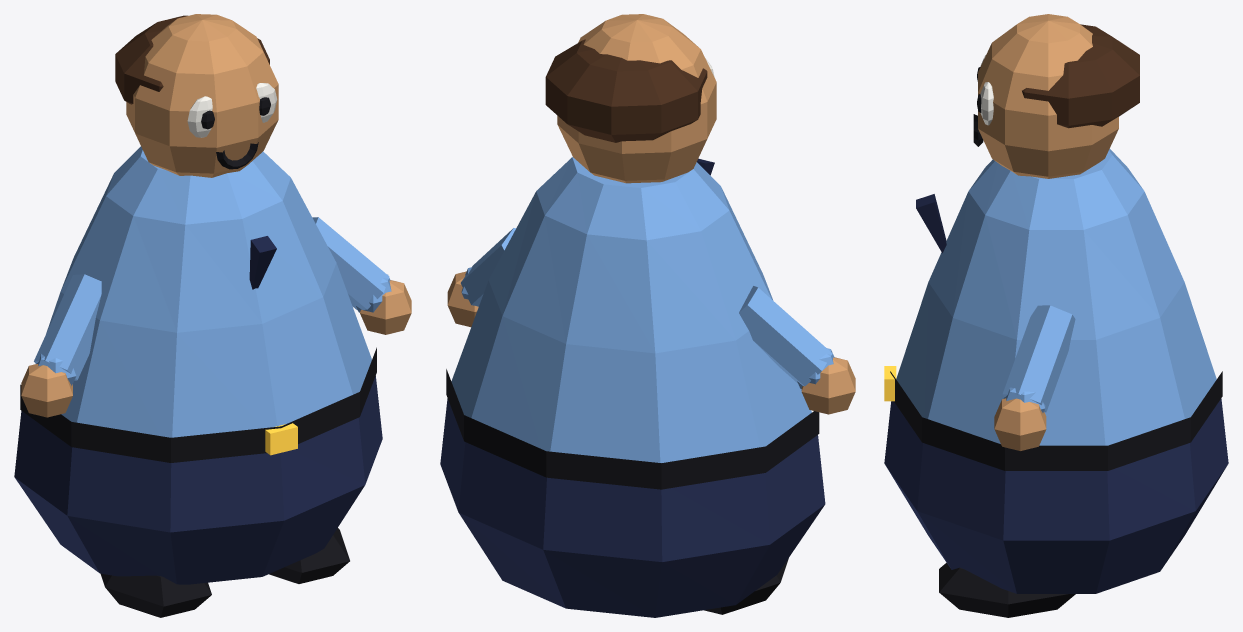
The model's file is npc_invitado.glb.
3 views of the same model, side by side, from view 1: azimuth 30°, elevation 25°; view 2: azimuth 150°, elevation 25°; view 3: azimuth 270°, elevation 25° (orthographic). The views are drawn at different scales.
Parts seen in each view (by area): view 1: body_costume_blue, body_costume_navy, head_skin_arena, body_black, arms_costume_blue, legs_black, arms_skin_arena, head_hair_brown, face_white, body_costume_tie, face_black, body_gold; view 2: body_costume_blue, body_costume_navy, head_hair_brown, head_skin_arena, body_black, arms_costume_blue, arms_skin_arena, legs_black; view 3: body_costume_blue, body_costume_navy, head_skin_arena, body_black, head_hair_brown, arms_costume_blue, legs_black, arms_skin_arena, body_costume_tie, face_white.
Boxes of the visible parts, x1,y1,x2,y2 form: body_costume_blue: (46, 146, 371, 437); body_costume_navy: (14, 376, 382, 584); head_skin_arena: (126, 14, 278, 177); body_black: (20, 347, 376, 462); arms_costume_blue: (34, 217, 391, 385); legs_black: (100, 528, 349, 617); arms_skin_arena: (21, 280, 411, 417); head_hair_brown: (115, 15, 269, 104); face_white: (187, 83, 277, 137); body_costume_tie: (249, 236, 276, 289); face_black: (201, 97, 270, 169); body_gold: (265, 423, 297, 455); body_costume_blue: (451, 157, 811, 462); body_costume_navy: (440, 398, 825, 617); head_hair_brown: (545, 39, 707, 142); head_skin_arena: (557, 14, 716, 183); body_black: (446, 369, 819, 489); arms_costume_blue: (460, 228, 834, 388); arms_skin_arena: (447, 271, 855, 414); legs_black: (704, 558, 788, 614); body_costume_blue: (896, 149, 1216, 445); body_costume_navy: (884, 398, 1228, 593); head_skin_arena: (978, 14, 1118, 178); body_black: (890, 371, 1222, 470); head_hair_brown: (1022, 24, 1139, 128); arms_costume_blue: (1002, 305, 1075, 412); legs_black: (939, 563, 1075, 617); arms_skin_arena: (994, 398, 1046, 450); body_costume_tie: (916, 194, 946, 253); face_white: (980, 55, 993, 125).
Size of the model in its own units: 1.13 by 1.53 by 0.86.
